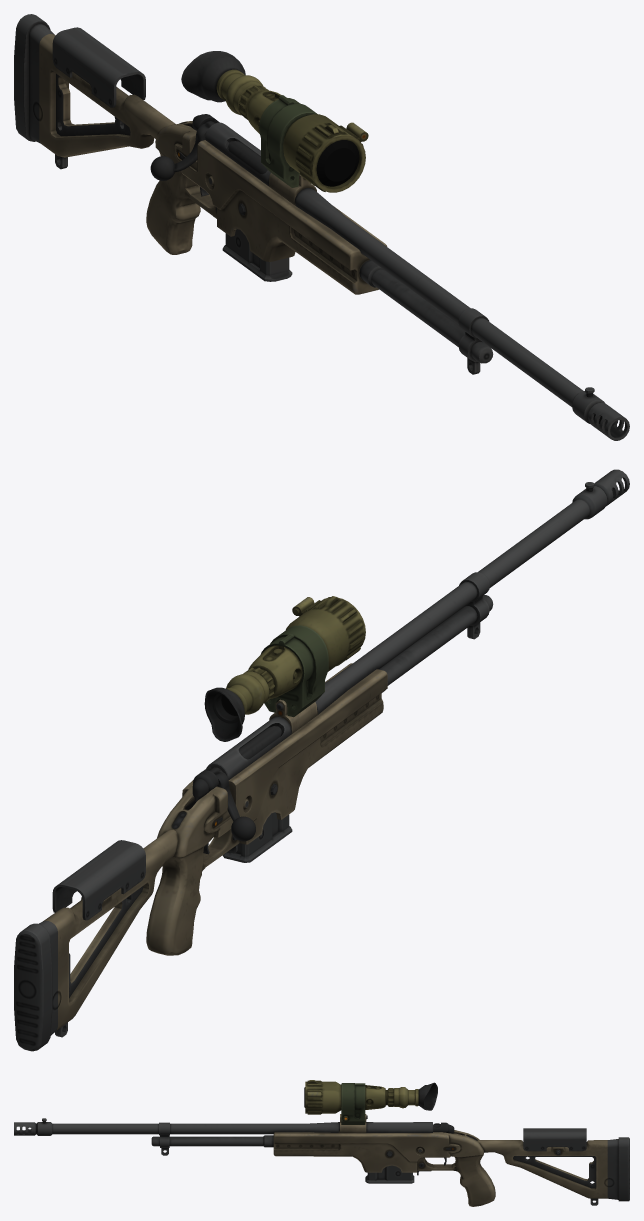
3 views of the same model, one above another, from view 1: azimuth 30°, elevation 25°; view 2: azimuth 150°, elevation 25°; view 3: azimuth 270°, elevation 25° (orthographic). The views are drawn at different scales.
Parts seen in each view (by area): view 1: base, scope, bolt, clip; view 2: base, scope, bolt, clip; view 3: base, scope, clip.
Boxes of the visible parts, x1=… form: base: x1=14, y1=14, x2=629, y2=440; scope: x1=181, y1=51, x2=368, y2=192; bolt: x1=150, y1=121, x2=267, y2=180; clip: x1=222, y1=229, x2=292, y2=281; base: x1=14, y1=469, x2=629, y2=1051; scope: x1=204, y1=596, x2=365, y2=741; bolt: x1=209, y1=726, x2=281, y2=841; clip: x1=222, y1=812, x2=292, y2=862; base: x1=14, y1=1114, x2=629, y2=1206; scope: x1=304, y1=1080, x2=437, y2=1124; clip: x1=365, y1=1165, x2=414, y2=1183.
Size of the model in its own units: 12.16 by 33.58 by 151.
Materials: 1 (1 with a texture image).
